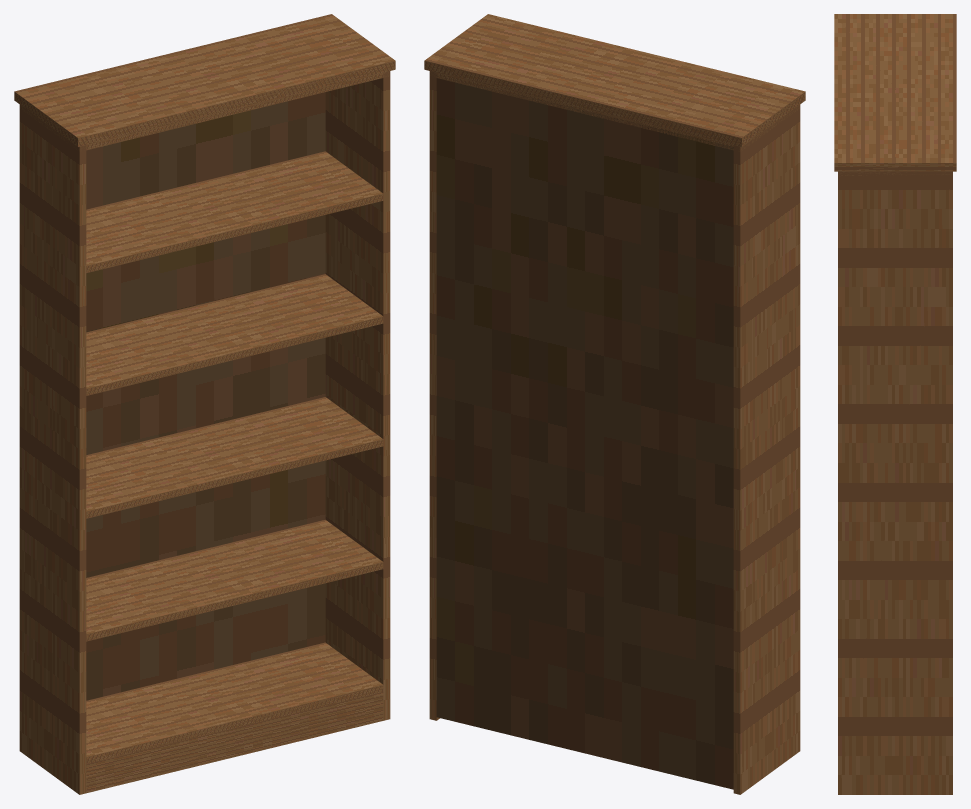
Rendered from PSX_ShelvesPropsNormalItemsBookcase_Empty.glb.
3 views of the same model, side by side, from view 1: azimuth 30°, elevation 25°; view 2: azimuth 150°, elevation 25°; view 3: azimuth 270°, elevation 25° (orthographic). The views are drawn at different scales.
Parts seen in each view (by area): view 1: Bookcase_Empty; view 2: Bookcase_Empty; view 3: Bookcase_Empty.
Boxes of the visible parts, x1,y1,x2,y2 form: Bookcase_Empty: [14, 14, 395, 794]; Bookcase_Empty: [424, 14, 805, 794]; Bookcase_Empty: [834, 14, 956, 794].
Bounding box in the file's own units: 0.92 × 1.83 × 0.32.
2 materials, 2 textured.
